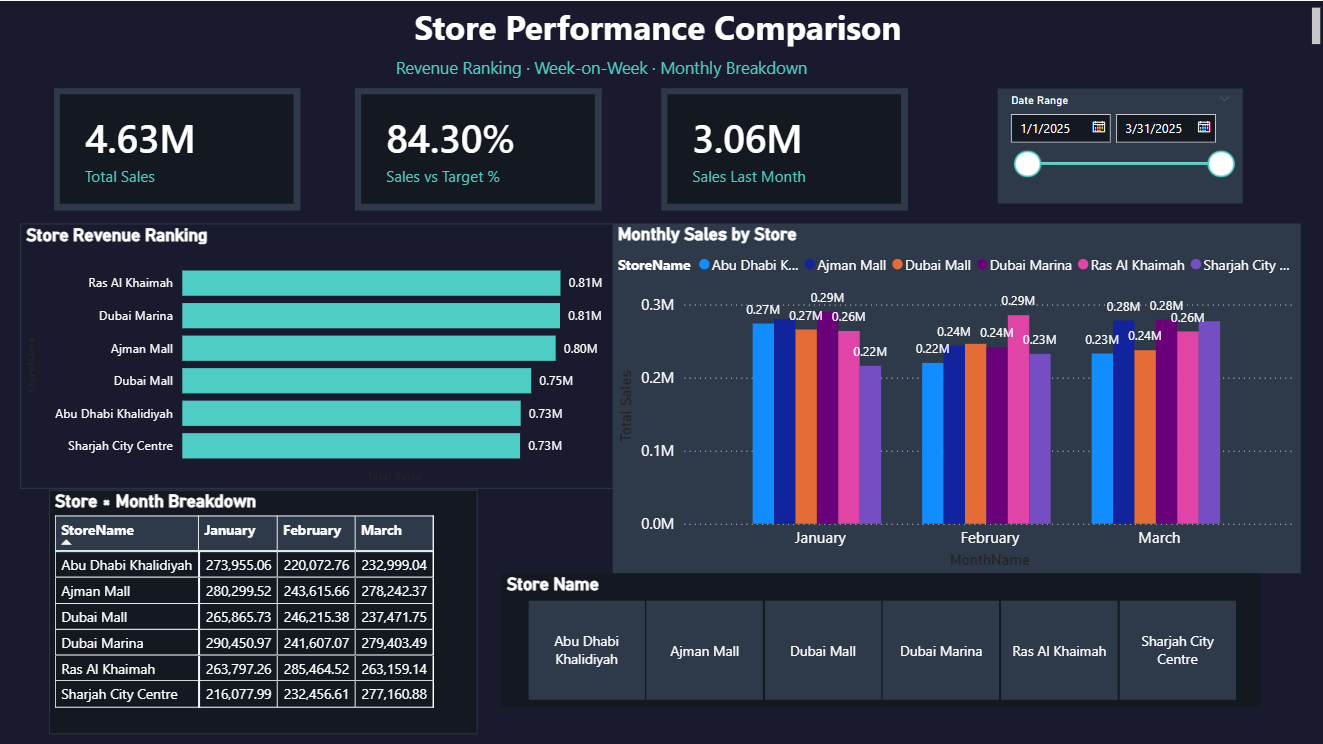

The dashboard page shown, as its layout file describes it:
{"tool":"powerbi","page":{"name":"Store Performance","canvas":[1280,720],"ordinal":1},"visuals":[{"type":"textbox","box":[0,0,1280,48.8],"z":0},{"type":"textbox","box":[340,48.8,482.5,53.8],"z":1000},{"type":"clusteredBarChart","title":"Store Revenue Ranking","fields":{"Category":["UAE_Retail_Transactions.StoreName"],"Y":["_Measures.Total Sales"]},"box":[20,215,572.5,256.2],"z":2000},{"type":"clusteredColumnChart","title":"Monthly Sales by Store","fields":{"Category":["DateTable.MonthName"],"Y":["_Measures.Total Sales"],"Series":["UAE_Retail_Transactions.StoreName"]},"box":[592.5,215,663.8,337.5],"z":3000},{"type":"slicer","title":"Store Name","fields":{"Values":["UAE_Retail_Transactions.StoreName"]},"box":[485,552.5,732.5,128.8],"z":4000},{"type":"pivotTable","title":"Store × Month Breakdown","fields":{"Rows":["UAE_Retail_Transactions.StoreName"],"Columns":["DateTable.MonthName"],"Values":["_Measures.Total Sales"]},"box":[48.8,471.2,413.8,236.2],"z":5000},{"type":"slicer","fields":{"Values":["DateTable.Date"]},"box":[963.8,85,236.2,110],"z":6000},{"type":"cardVisual","fields":{"Data":["_Measures.Total Sales"]},"box":[52.5,85,237.5,117.5],"z":7000},{"type":"cardVisual","fields":{"Data":["_Measures.Sales vs Target %"]},"box":[343.8,85,237.5,117.5],"z":8000},{"type":"cardVisual","fields":{"Data":["_Measures.Sales Last Month"]},"box":[640,85,237.5,117.5],"z":9000}]}

Visuals, with their boxes in screenshot pixels (x1, y1, x2, y2), scaled from the page's 1280x720 canvas onto the 1323x744 screenshot:
textbox: detection(0, 0, 1322, 50)
textbox: detection(351, 50, 850, 106)
"Store Revenue Ranking" clusteredBarChart: detection(21, 222, 612, 487)
"Monthly Sales by Store" clusteredColumnChart: detection(612, 222, 1299, 571)
"Store Name" slicer: detection(501, 571, 1258, 704)
"Store × Month Breakdown" pivotTable: detection(50, 487, 478, 731)
slicer - DateTable.Date: detection(996, 88, 1240, 202)
cardVisual - _Measures.Total Sales: detection(54, 88, 300, 209)
cardVisual - _Measures.Sales vs Target %: detection(355, 88, 601, 209)
cardVisual - _Measures.Sales Last Month: detection(662, 88, 907, 209)
